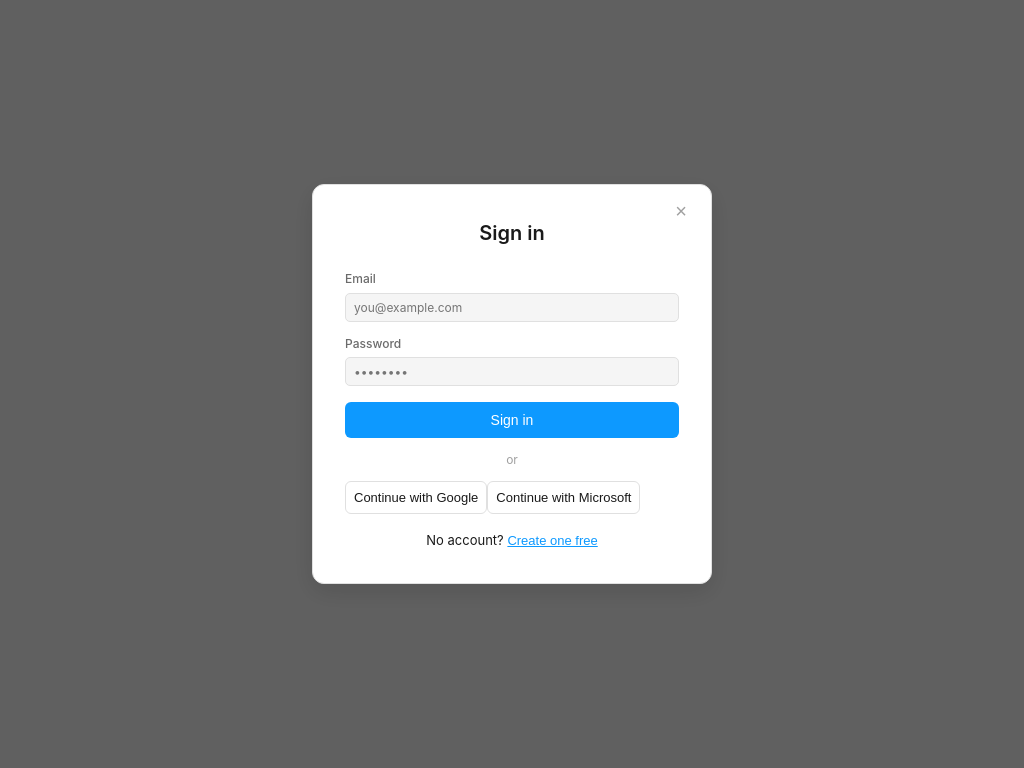
Test: T-AUTH-008 / T-AUTH-009 / T-AUTH-010: AuthModal OAuth providers › T-AUTH-010: when Microsoft sign-in fails, shows error message
Click the button "Continue with Microsoft" at [564, 497], box [487,481,640,514]
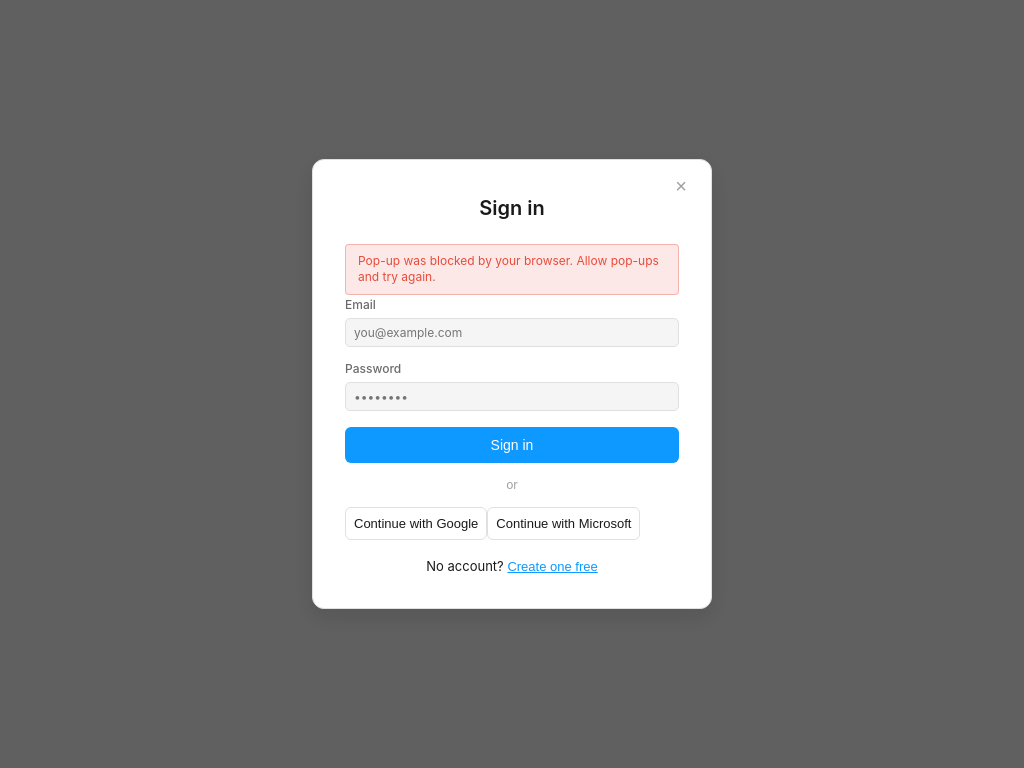
Now the message "Pop-up was blocked by your browser. Allow pop-ups and try again." is shown, box [345,244,679,295]
Now the message shows "Pop-up", box [358,252,659,284]
